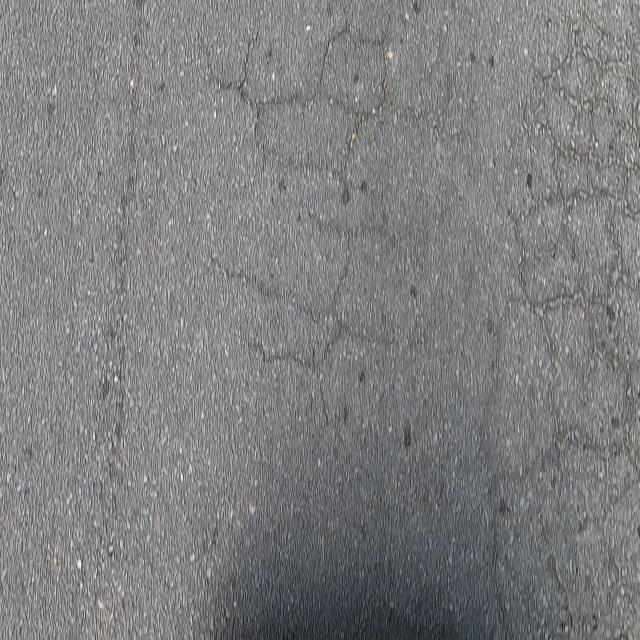Retak-Buaya: (475, 8, 637, 640), (201, 0, 396, 430)
